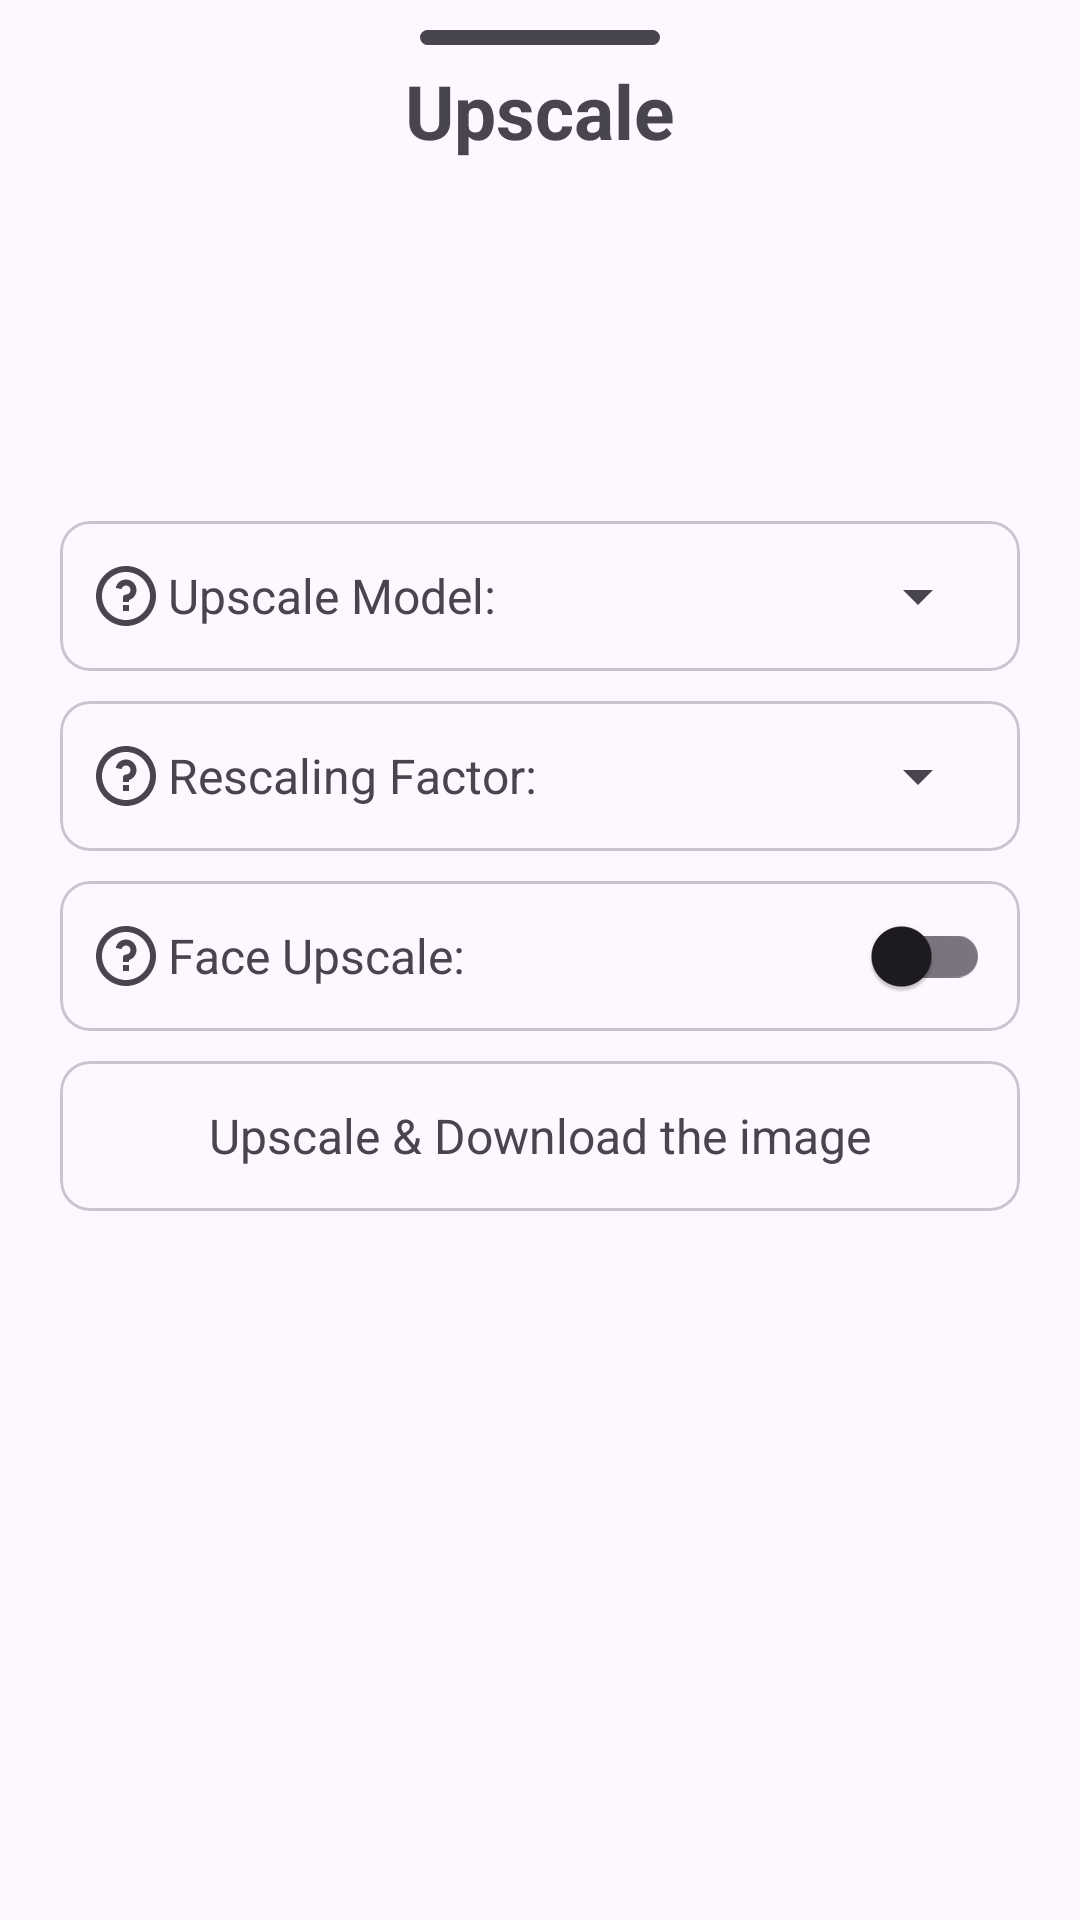

Where to tap for icons on this 1080×1920 app screen, as point (x, y):
question line: point (126, 596), point (126, 776), point (126, 956)
